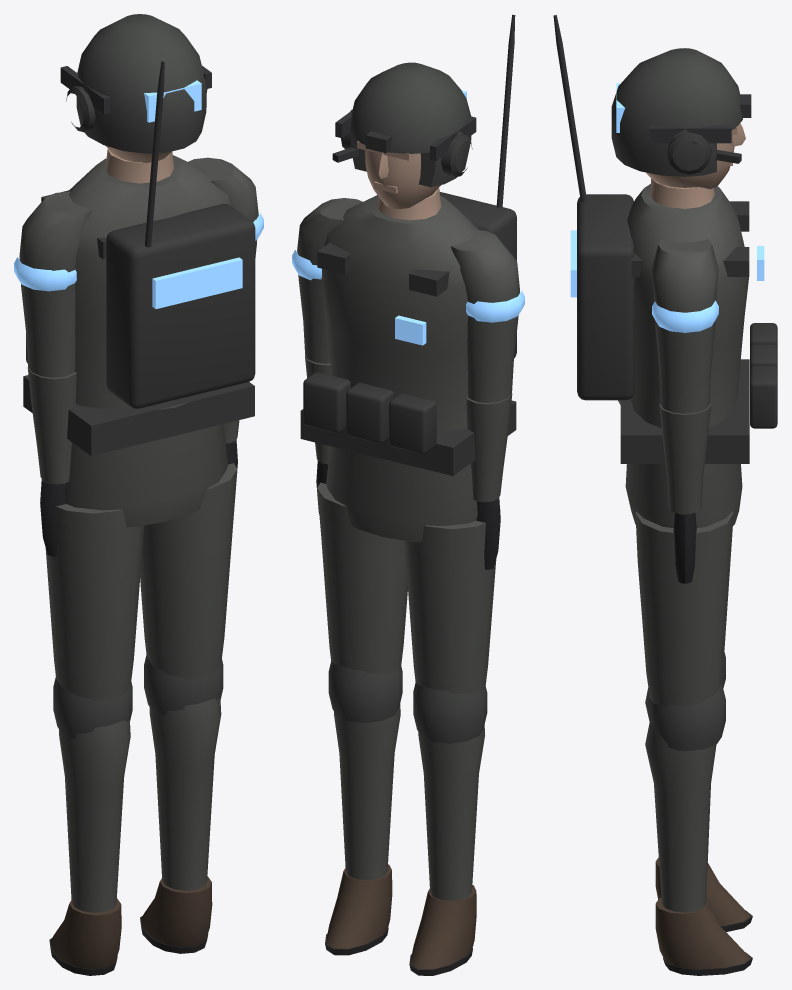
File: char_warden.glb
3 renders of one model, left to right at view 1: azimuth 30°, elevation 25°; view 2: azimuth 150°, elevation 25°; view 3: azimuth 270°, elevation 25°, orthographic. The views are drawn at different scales.
Visible parts, largest first — view 1: char_warden; view 2: char_warden; view 3: char_warden.
Part boxes in pixels (x1,y1,x2,y2): char_warden: [14, 14, 263, 975]; char_warden: [292, 14, 524, 975]; char_warden: [553, 15, 777, 975].
Size of what is drawn, in the model's own units: 0.4982 by 1.89 by 0.423.
